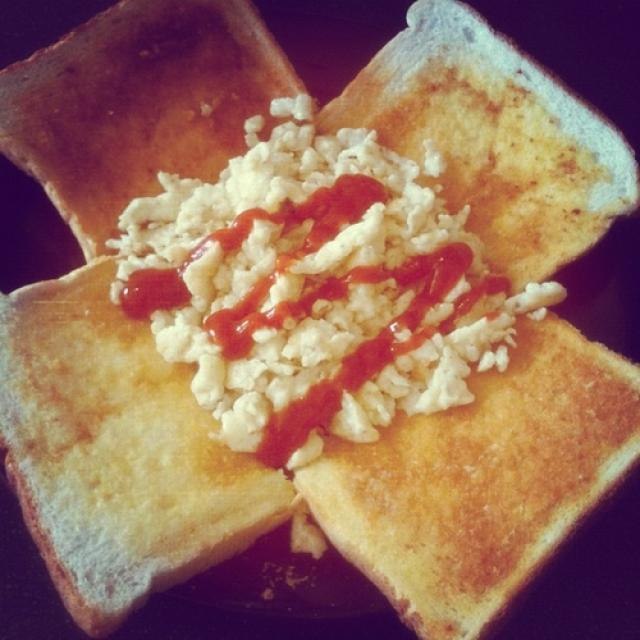鸡蛋料理: (109, 116, 555, 458)
